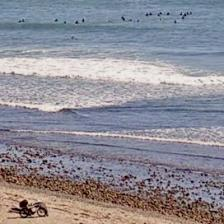surfer: (71, 36, 77, 40), (186, 10, 190, 15), (184, 12, 187, 18), (150, 12, 154, 16), (120, 16, 124, 20), (75, 20, 79, 24), (63, 20, 67, 24), (54, 18, 58, 22), (167, 11, 170, 15), (157, 14, 161, 17), (159, 11, 163, 14), (137, 19, 141, 22), (128, 19, 132, 22), (22, 18, 25, 22), (18, 20, 22, 23), (108, 21, 113, 23), (174, 20, 177, 23), (179, 12, 182, 15), (182, 16, 184, 20), (82, 18, 84, 22), (190, 12, 192, 15), (145, 14, 148, 16)
